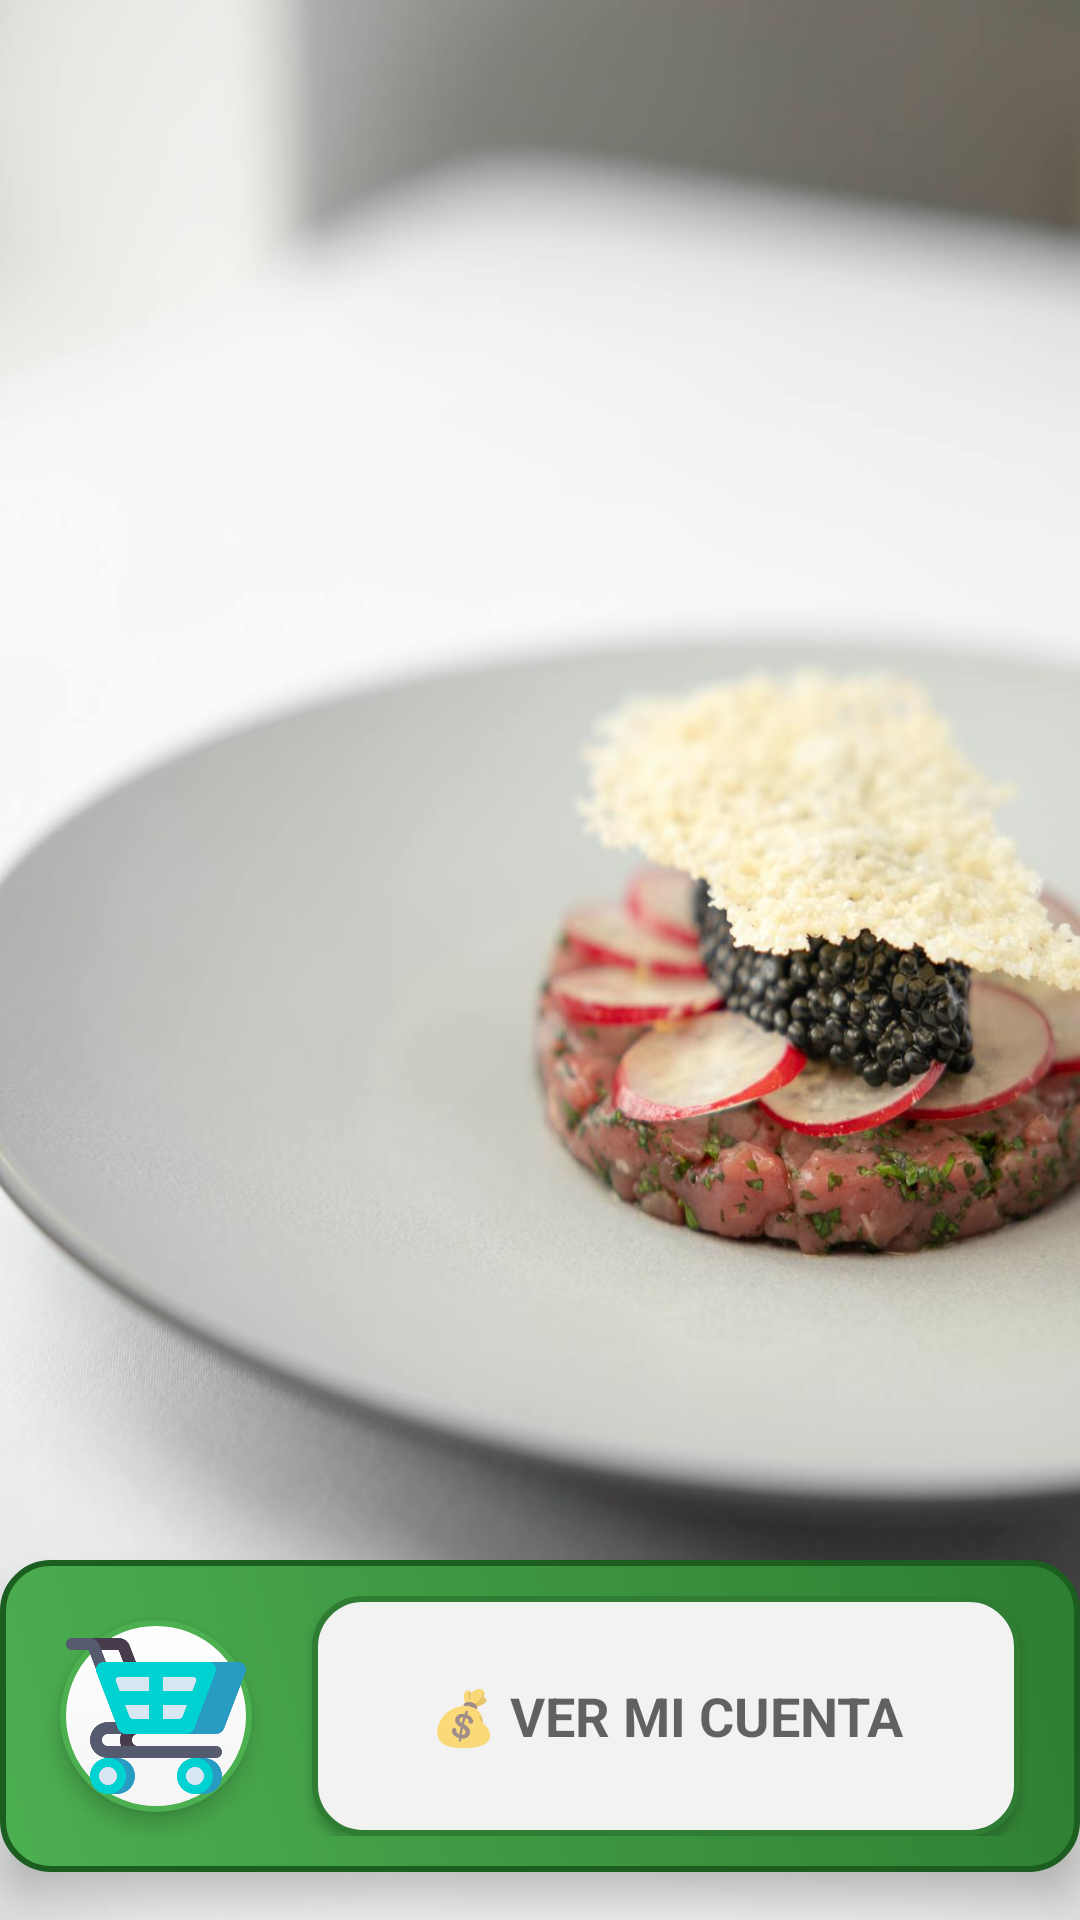

Icons on this 1080w x 1920h Android screen, each with the point to tap as (x=x, y=y):
carro compra: (x=156, y=1719)
